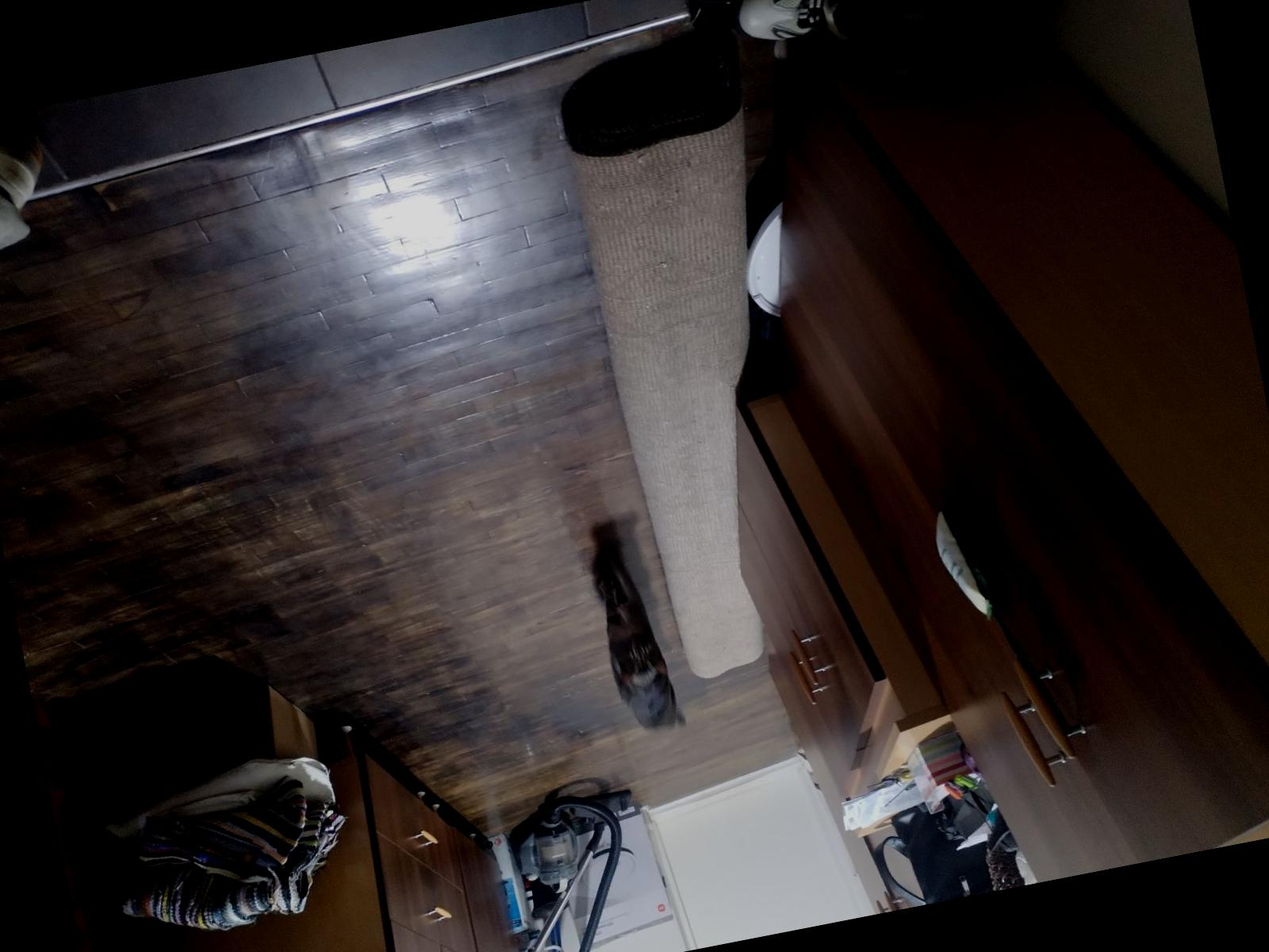macka: (591, 560, 689, 739)
